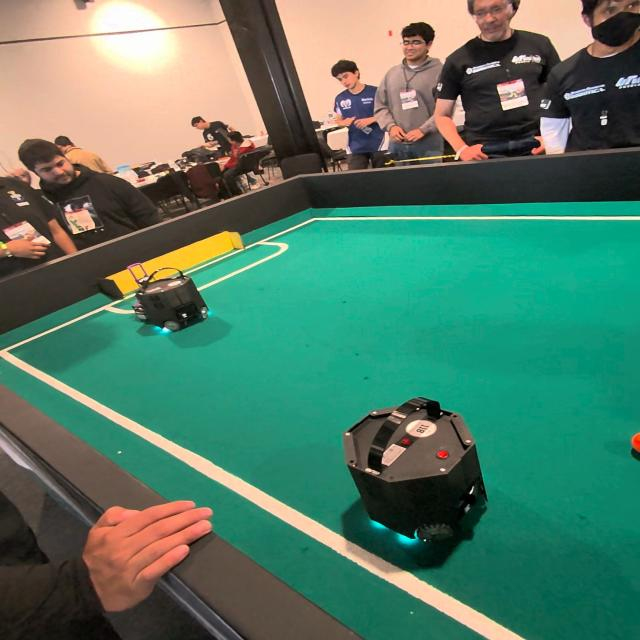Robot: (339, 393, 501, 567), (131, 260, 225, 341)
pelota: (631, 433, 640, 464)
